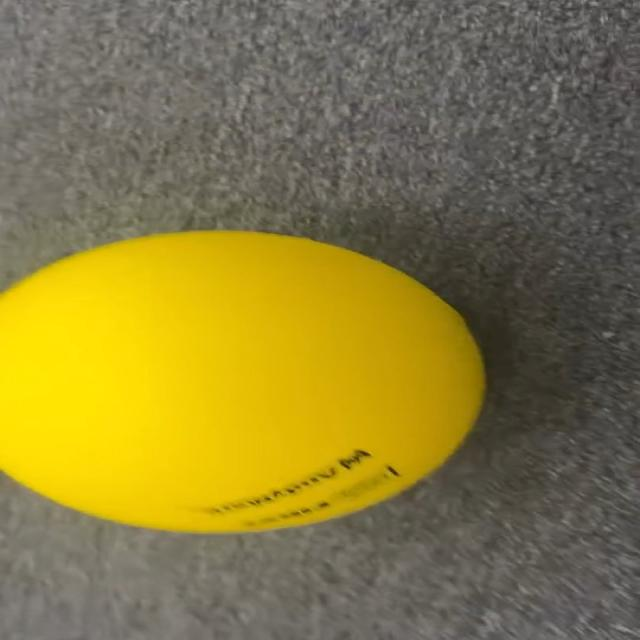Fuels: (4, 233, 489, 529)
